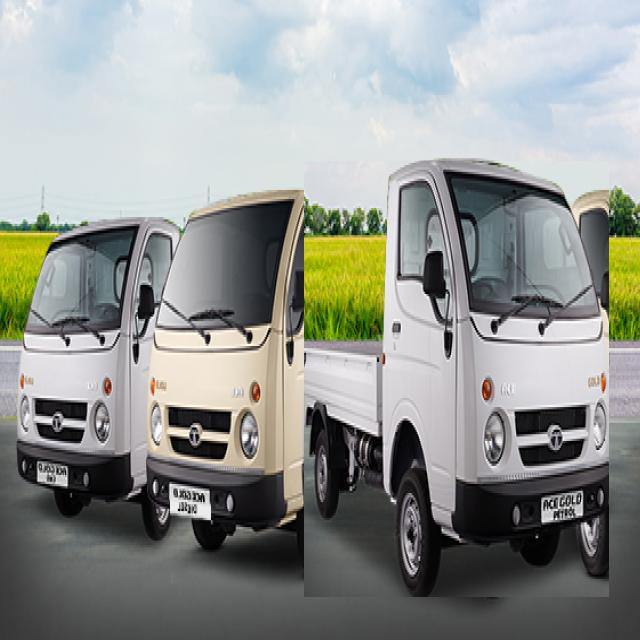truck: (304, 161, 609, 597), (146, 191, 340, 574), (18, 218, 178, 539)
